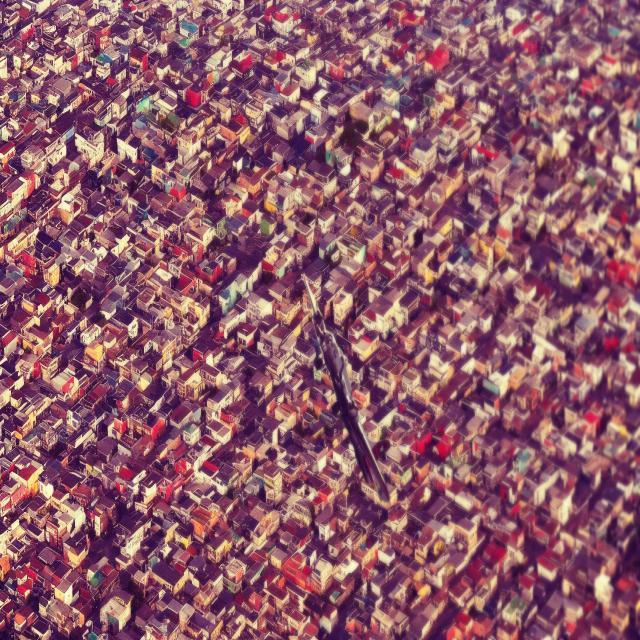airplane: (300, 272, 397, 510)
